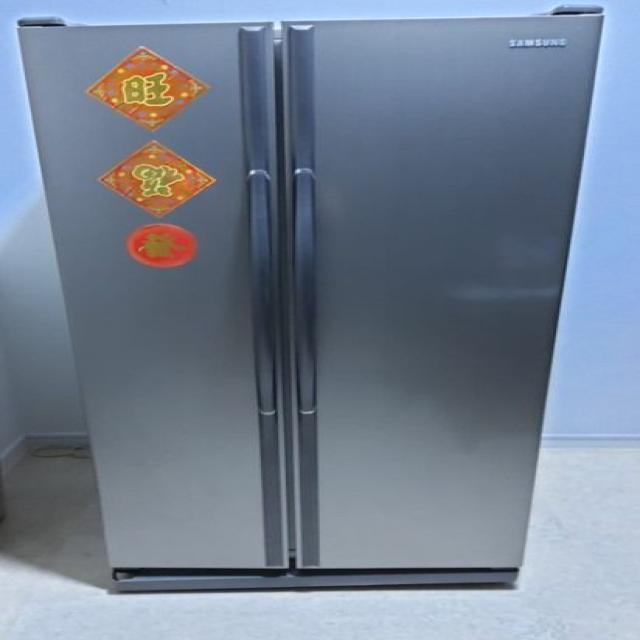refrigerator: (18, 18, 594, 590)
